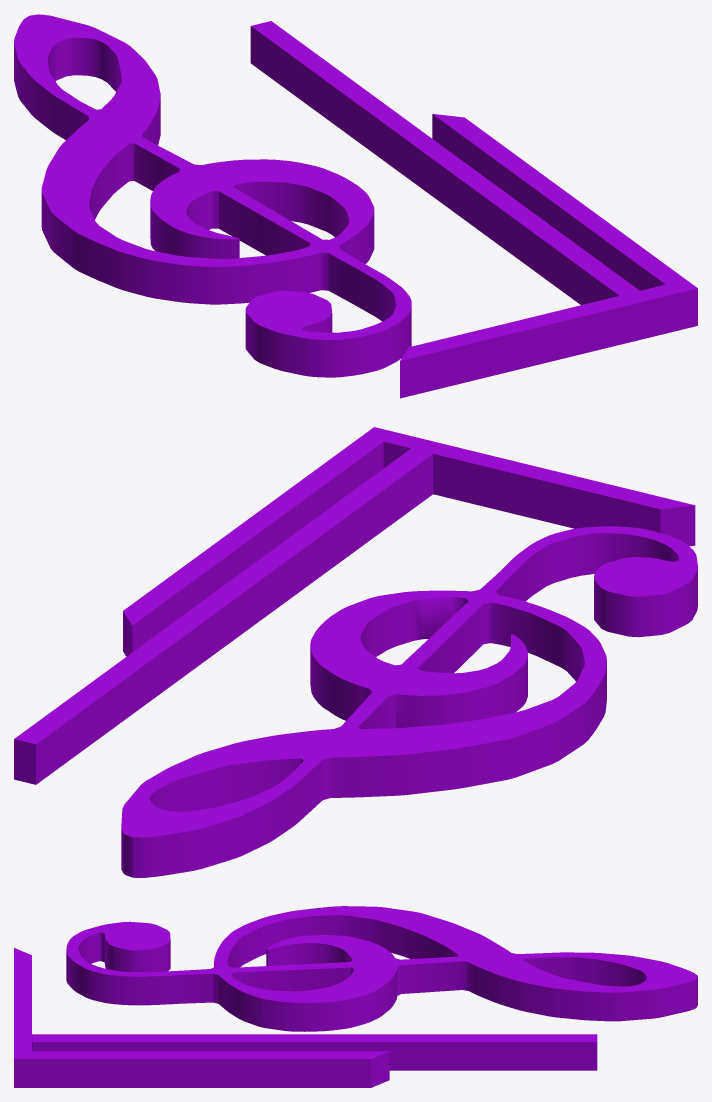
The model's file is sound.fbx.
3 renders of one model, top to bottom at view 1: azimuth 30°, elevation 25°; view 2: azimuth 150°, elevation 25°; view 3: azimuth 270°, elevation 25°, orthographic. The views are drawn at different scales.
Visible parts, largest first — view 1: Sound-marker; view 2: Sound-marker; view 3: Sound-marker.
Boxes of the visible parts, <box> form: Sound-marker: <box>14,14,697,398</box>; Sound-marker: <box>14,427,697,877</box>; Sound-marker: <box>14,906,697,1087</box>.
Size of the model in its own units: 99.7 by 8.74 by 188.
